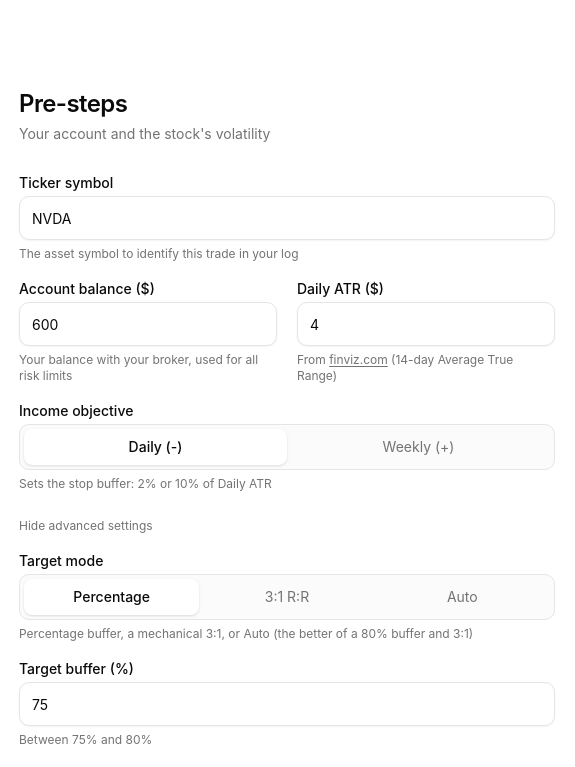
given the advanced settings caps › given a buffer above 80%: should snap the field down to 80 on blur
Replace the text in the number field labelled "Target buffer (%)" with "90": (287, 704) [19,682,555,726]
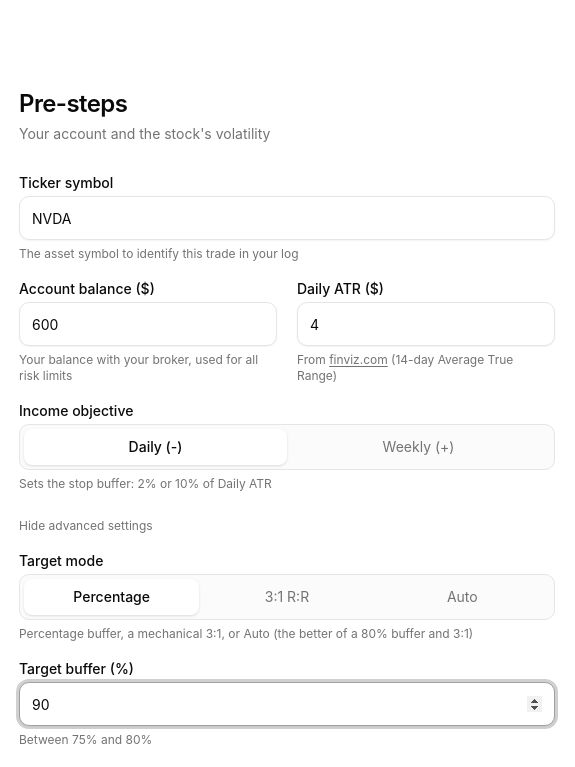
Press Tab
(page scrolled)
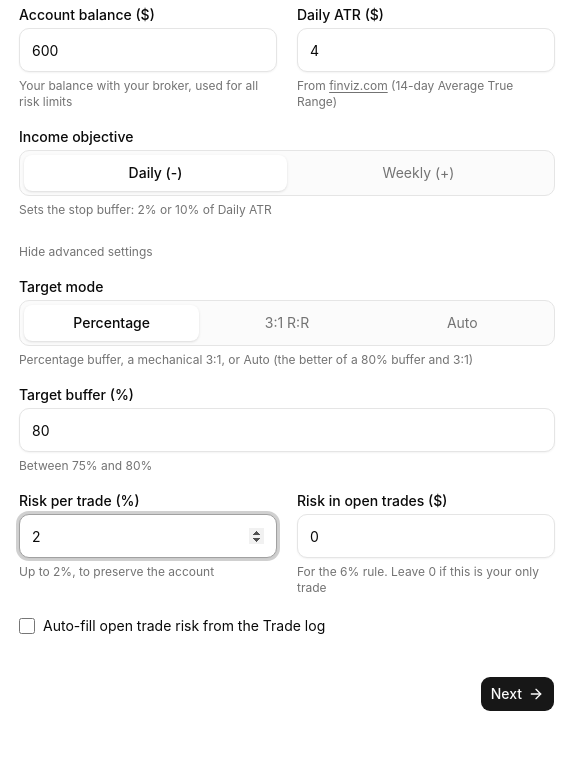
Expected: the number field labelled "Target buffer (%)" holds "80", [19,408,555,452]
